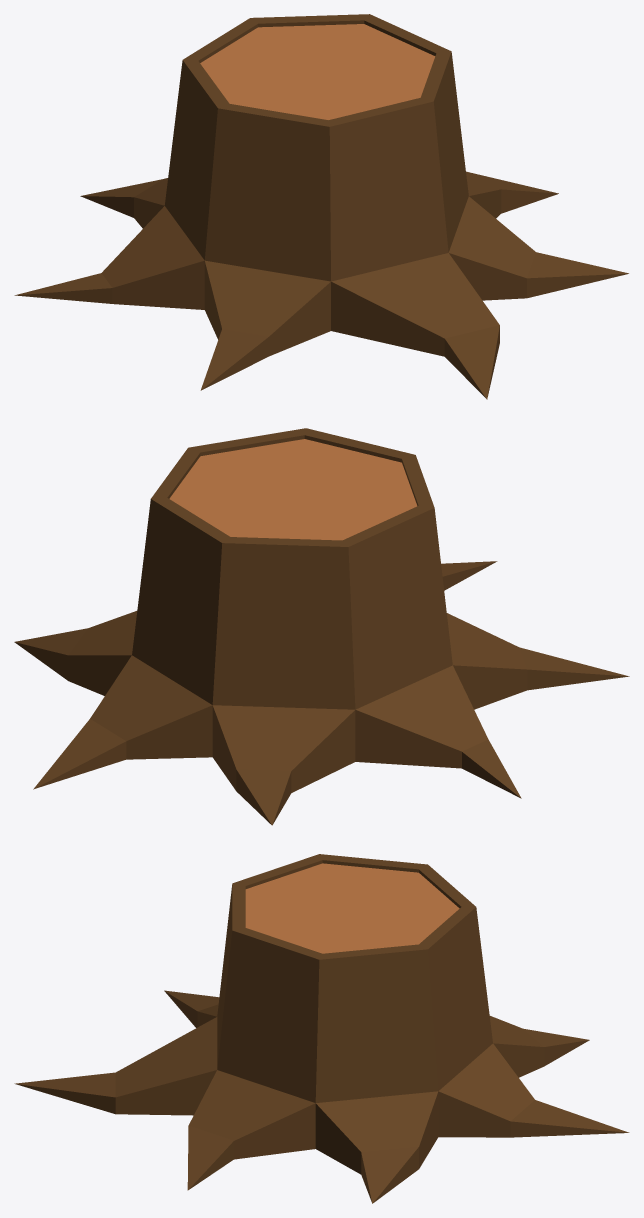
Rendered from treeh3.glb.
3 views of the same model, one above another, from view 1: azimuth 30°, elevation 25°; view 2: azimuth 150°, elevation 25°; view 3: azimuth 270°, elevation 25° (orthographic). The views are drawn at different scales.
Parts seen in each view (by area): view 1: Cylinder.002; view 2: Cylinder.002; view 3: Cylinder.002.
Part boxes in pixels (x1,y1,x2,y2): Cylinder.002: (14,14,628,399); Cylinder.002: (14,428,629,825); Cylinder.002: (14,854,629,1203).
Size of the model in its own units: 1.35 by 0.4949 by 1.52.
